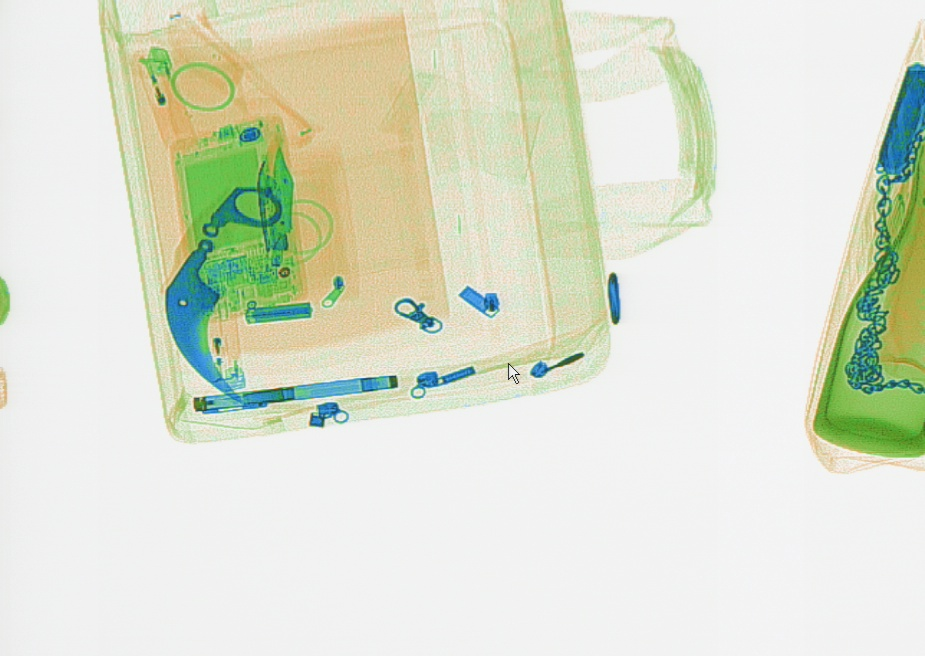knife: (163, 182, 282, 403), (253, 118, 294, 268), (871, 60, 923, 178)
lighter: (132, 45, 198, 150)
